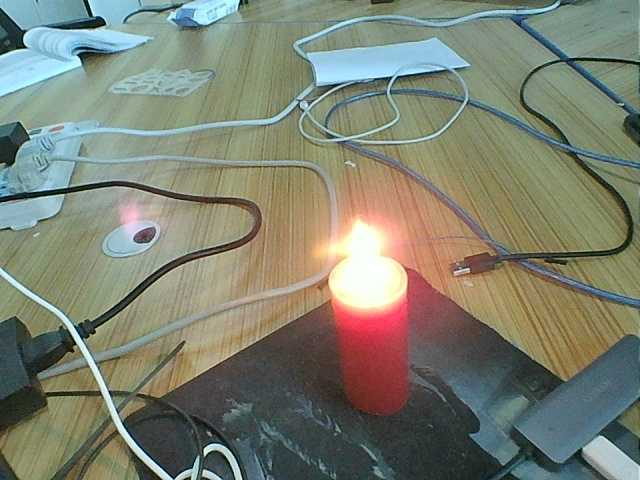candle: (329, 302, 421, 413)
fire: (337, 220, 395, 299)
